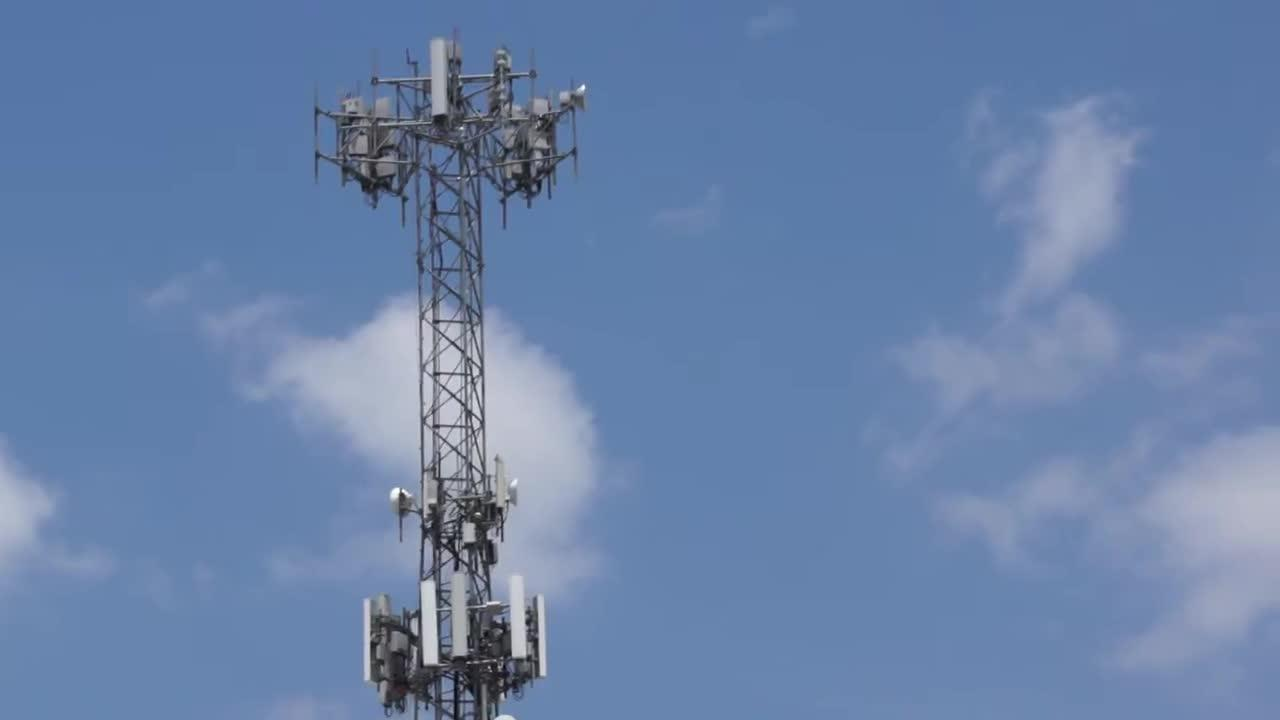Microwave Antenna: (385, 483, 422, 526), (561, 79, 595, 118), (505, 477, 524, 516)
antenna: (500, 572, 535, 663), (350, 591, 378, 681), (449, 564, 474, 661), (419, 574, 444, 669), (531, 591, 557, 673), (429, 38, 451, 126), (494, 456, 512, 514)
